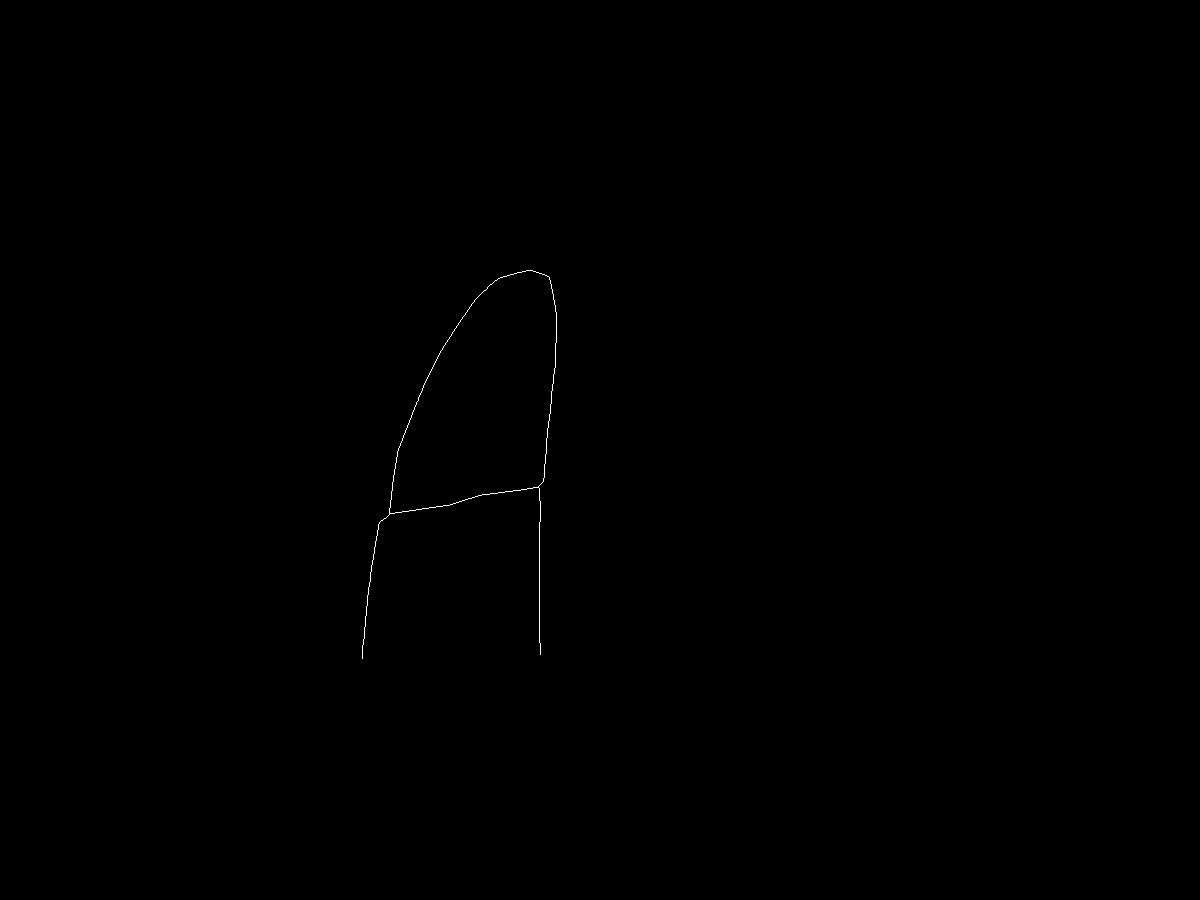dian1: (512, 268, 524, 280)
dian2: (381, 507, 400, 526)
dian3: (355, 652, 370, 667)
dian4: (534, 480, 548, 494)
dian5: (532, 647, 547, 662)
